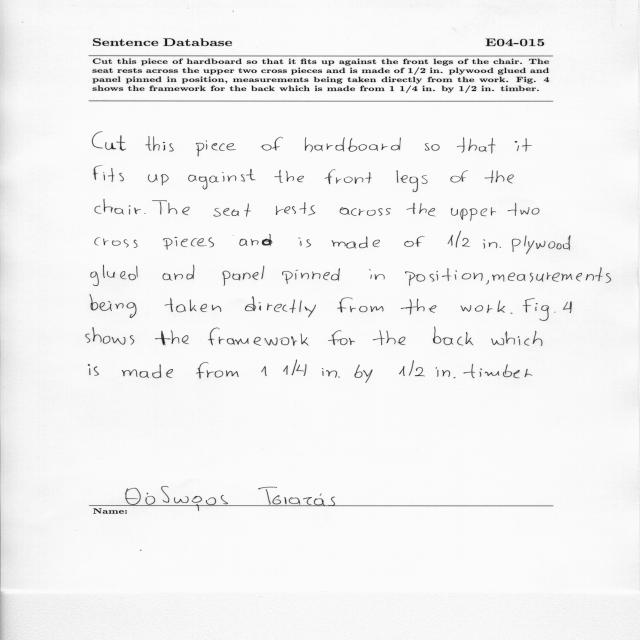word: (492, 267, 611, 283), (208, 328, 309, 346), (245, 296, 316, 318), (305, 137, 401, 152), (188, 169, 256, 190), (405, 268, 483, 286), (512, 235, 571, 254), (90, 295, 136, 318), (91, 265, 138, 286), (282, 268, 340, 284), (86, 327, 134, 345), (223, 266, 265, 286), (165, 298, 222, 312), (463, 364, 520, 378), (491, 331, 542, 346), (433, 327, 473, 346), (523, 298, 556, 321), (95, 199, 141, 215), (122, 364, 173, 378), (325, 169, 372, 184), (338, 298, 384, 313), (196, 362, 239, 378), (397, 170, 428, 192), (163, 237, 214, 250), (92, 132, 126, 151), (196, 141, 236, 157), (451, 207, 496, 221), (457, 138, 496, 154), (332, 237, 380, 249), (461, 300, 505, 313), (152, 200, 190, 215), (276, 202, 316, 216), (401, 299, 436, 315), (213, 203, 251, 217), (163, 265, 195, 281), (155, 331, 189, 346), (93, 166, 124, 182), (373, 330, 405, 345), (95, 237, 138, 248), (340, 207, 391, 216), (145, 136, 174, 151), (508, 203, 540, 216), (399, 361, 425, 377), (328, 330, 355, 345), (240, 234, 273, 246), (275, 170, 304, 183), (485, 170, 514, 183), (407, 203, 436, 216), (284, 360, 307, 376), (448, 231, 470, 247), (355, 365, 373, 383), (261, 137, 283, 150), (514, 138, 532, 152), (450, 170, 468, 183), (148, 174, 169, 185), (404, 236, 425, 247), (436, 368, 455, 379), (483, 239, 501, 249), (322, 368, 340, 378), (369, 269, 385, 280), (88, 364, 99, 376), (425, 143, 440, 151), (299, 238, 311, 248), (563, 302, 572, 313), (525, 369, 533, 377), (261, 366, 267, 376), (486, 280, 489, 284), (510, 313, 513, 314), (144, 213, 146, 214)
